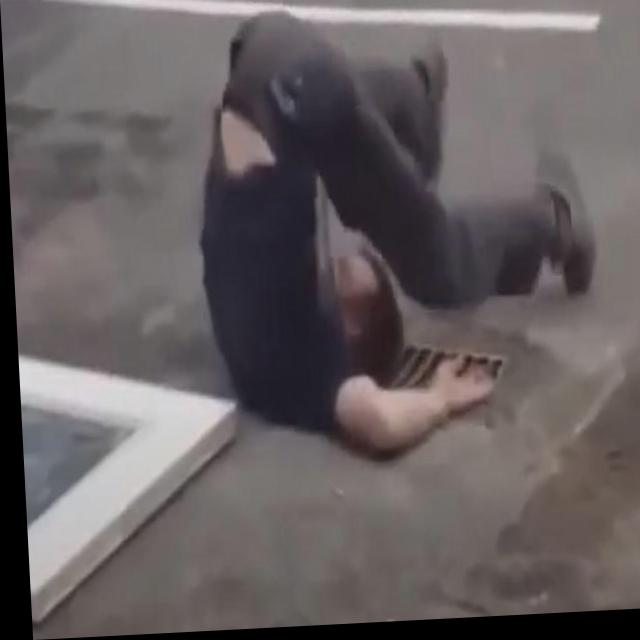fall: (190, 0, 601, 466)
